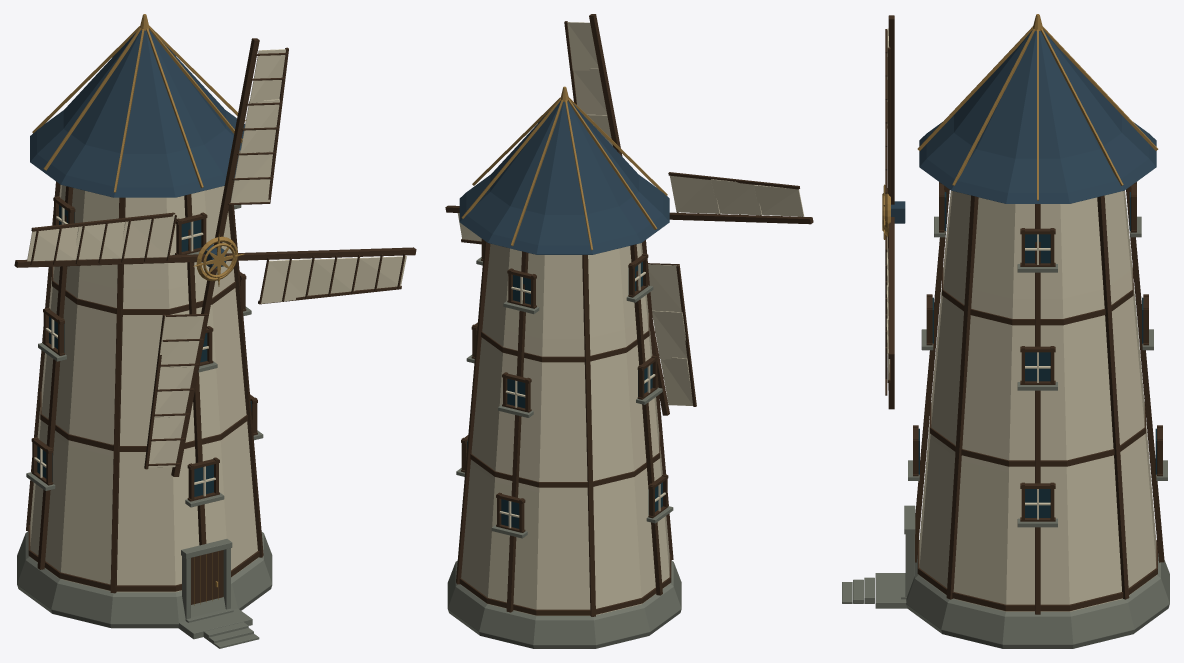
File: Windmill_LOD0.fbx
3 views of the same model, side by side, from view 1: azimuth 30°, elevation 25°; view 2: azimuth 150°, elevation 25°; view 3: azimuth 270°, elevation 25° (orthographic). The views are drawn at different scales.
Visible parts, largest first — view 1: Windmill_Body, Rotor; view 2: Windmill_Body, Rotor; view 3: Windmill_Body, Rotor.
Part boxes in pixels (left/top/right/bottom): Windmill_Body: left=17, top=14, right=272, bottom=648; Rotor: left=14, top=38, right=416, bottom=476; Windmill_Body: left=447, top=86, right=681, bottom=648; Rotor: left=445, top=14, right=813, bottom=415; Windmill_Body: left=842, top=14, right=1169, bottom=648; Rotor: left=882, top=15, right=905, bottom=409.
Size of the model in its own units: 15.52 by 21.46 by 10.67.
